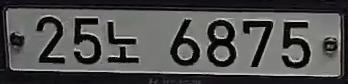2: (31, 12, 70, 67)
5: (276, 16, 317, 73), (69, 15, 104, 66)
6: (165, 14, 205, 68)
7: (240, 15, 274, 70)
8: (204, 16, 238, 69)
노: (103, 17, 146, 68)
